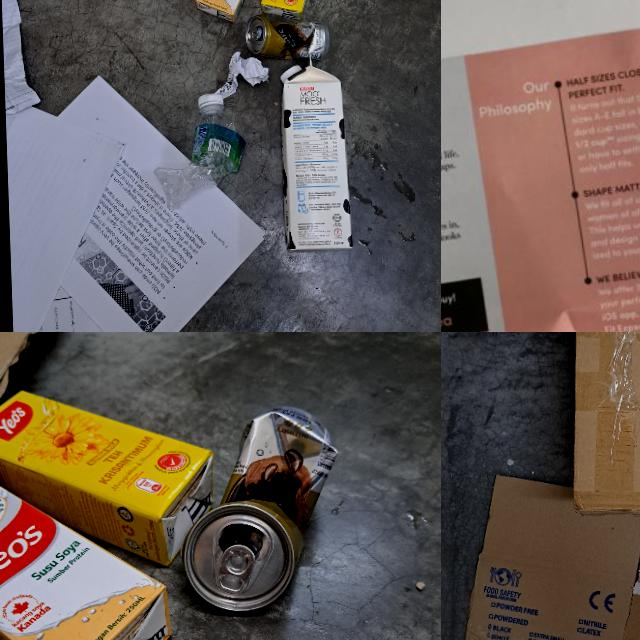aba de lata: (218, 542, 256, 594), (247, 28, 258, 40)
caixinha: (0, 383, 218, 574), (0, 462, 177, 640), (278, 53, 353, 252), (193, 0, 274, 23)
garrafa plástica: (152, 106, 248, 208)
lata: (178, 406, 344, 616), (243, 12, 329, 62)
papel: (4, 68, 269, 332), (441, 10, 640, 332), (0, 0, 40, 111), (212, 50, 270, 100)
papelão: (444, 461, 640, 640), (558, 332, 640, 519), (0, 332, 90, 434)
tampa plástica: (280, 65, 302, 82), (197, 93, 223, 107)
